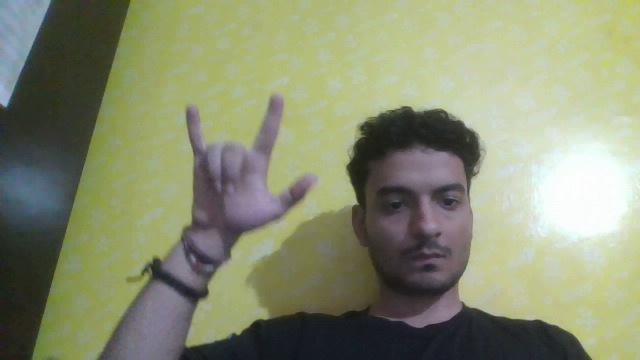Loveyou: (140, 85, 348, 242)
